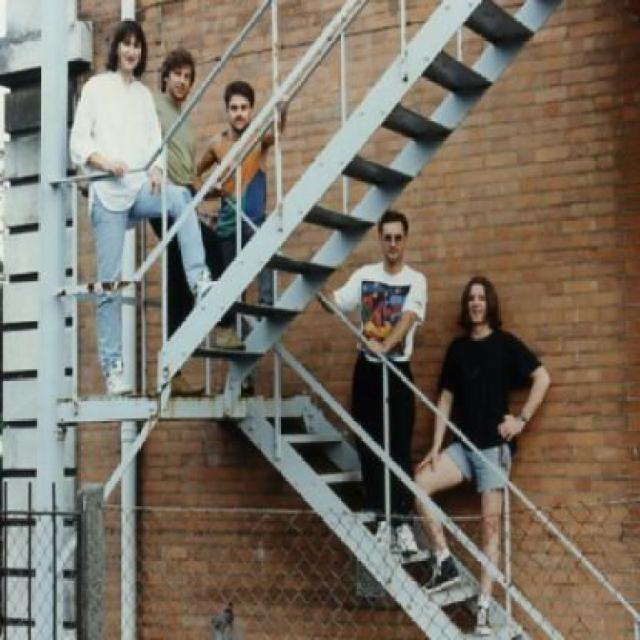stair: (156, 0, 562, 391), (238, 396, 534, 638)
